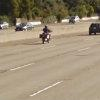Motorcycle: (35, 27, 62, 49)
